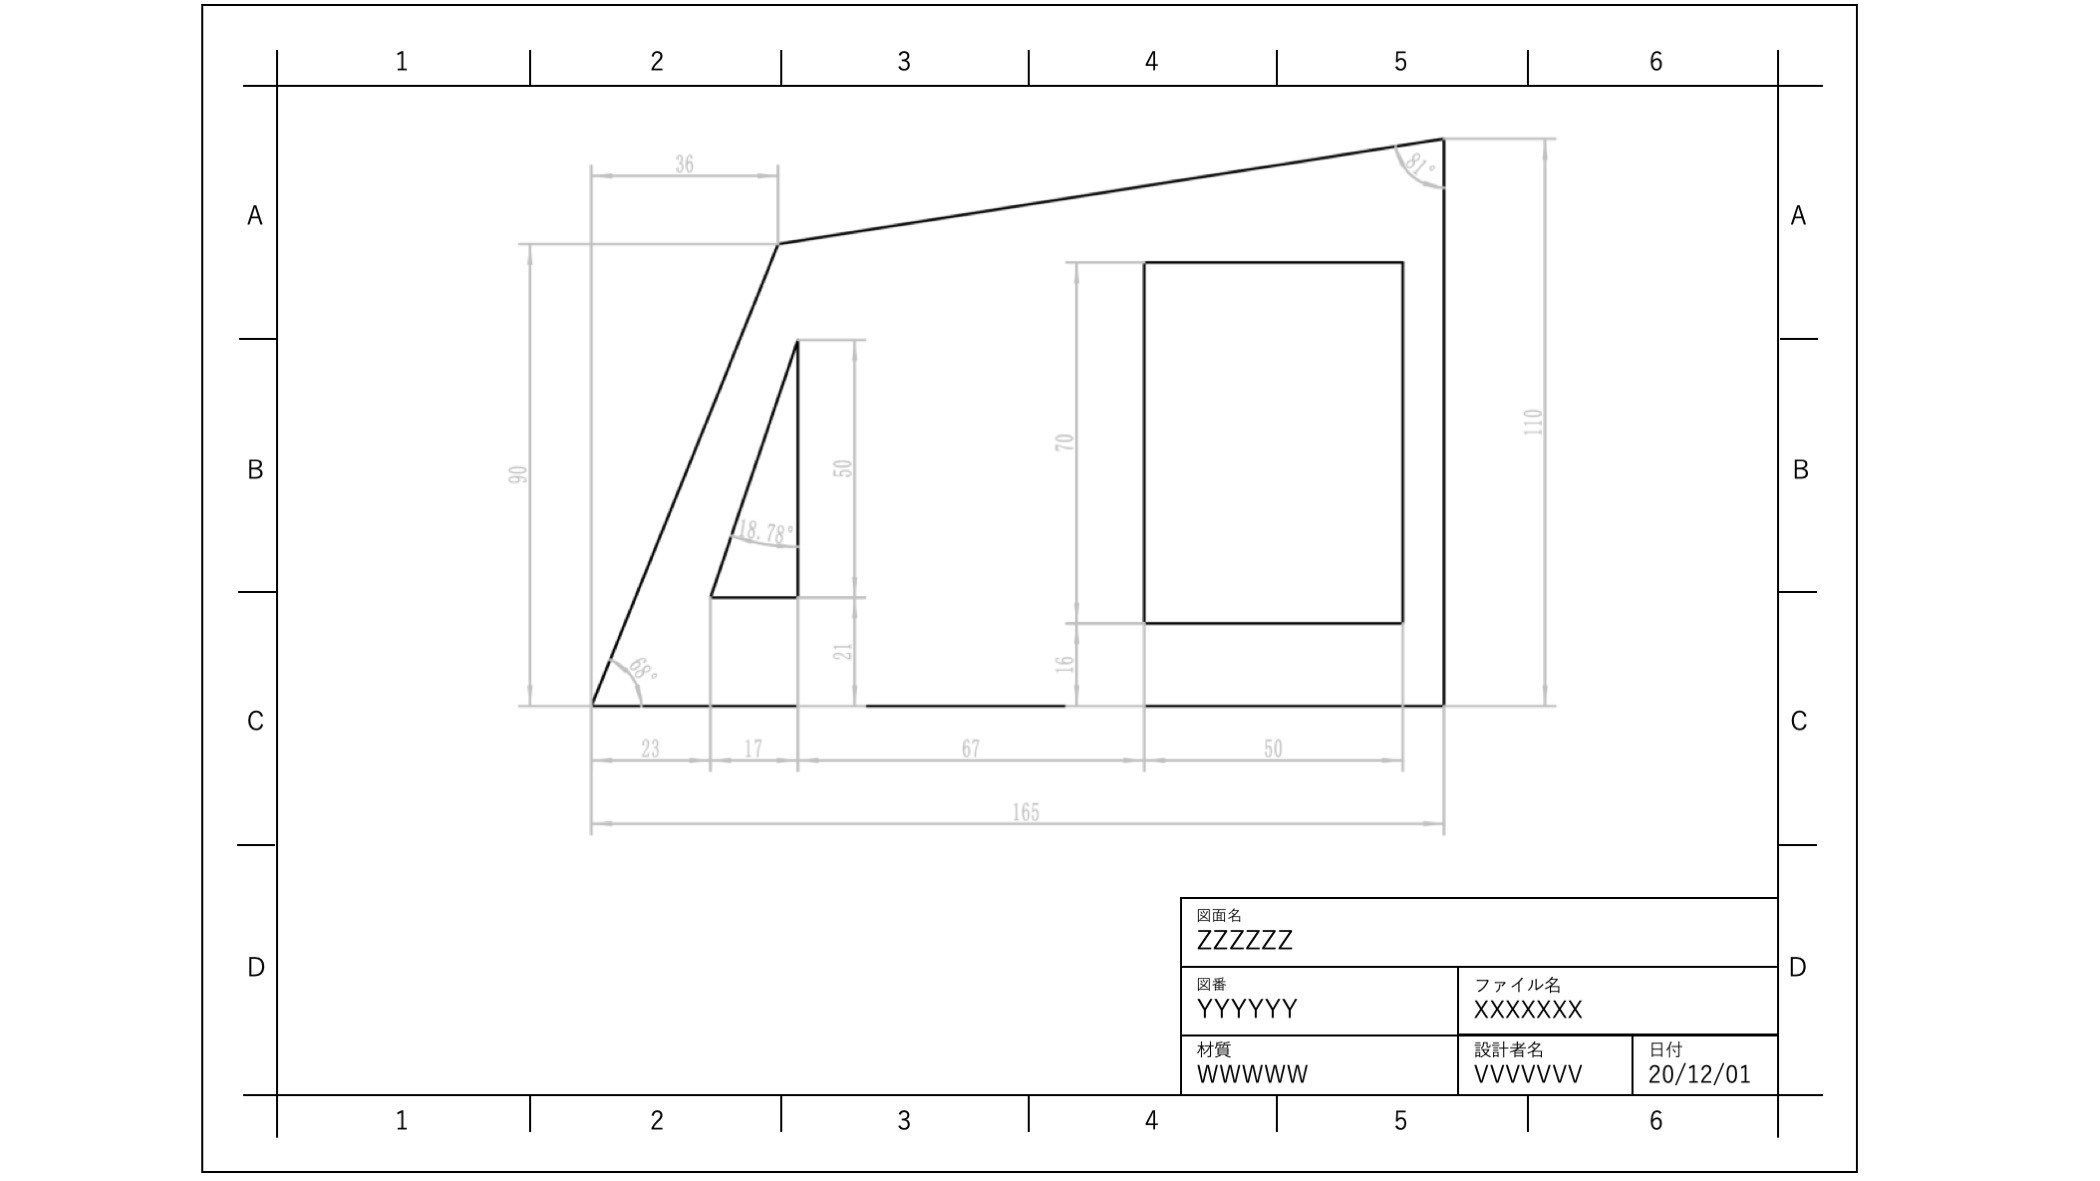rectangle: (1131, 244, 1416, 632)
triangle: (692, 326, 803, 614)
